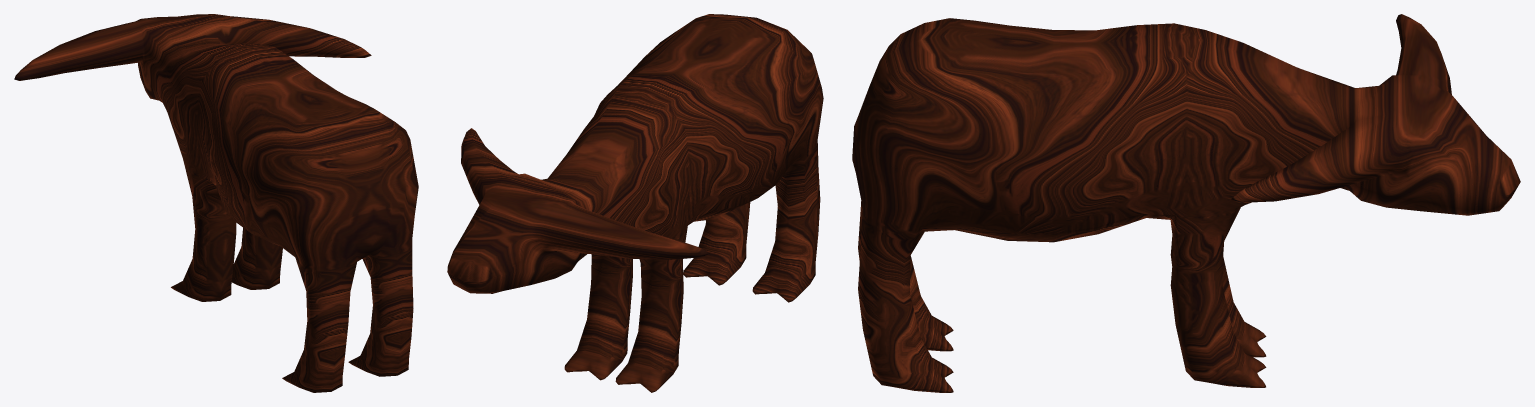
File: buffalo.fbx
3 renders of one model, left to right at view 1: azimuth 30°, elevation 25°; view 2: azimuth 150°, elevation 25°; view 3: azimuth 270°, elevation 25°, orthographic. The views are drawn at different scales.
Parts seen in each view (by area): view 1: pCube10; view 2: pCube10; view 3: pCube10.
Boxes of the visible parts, x1,y1,x2,y2 form: pCube10: (14, 14, 418, 392); pCube10: (447, 14, 823, 392); pCube10: (852, 14, 1520, 392).
Bounding box in the file's own units: 12.54 × 10.39 × 19.18.
